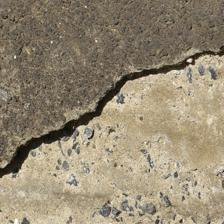Crack: (2, 25, 222, 148)
